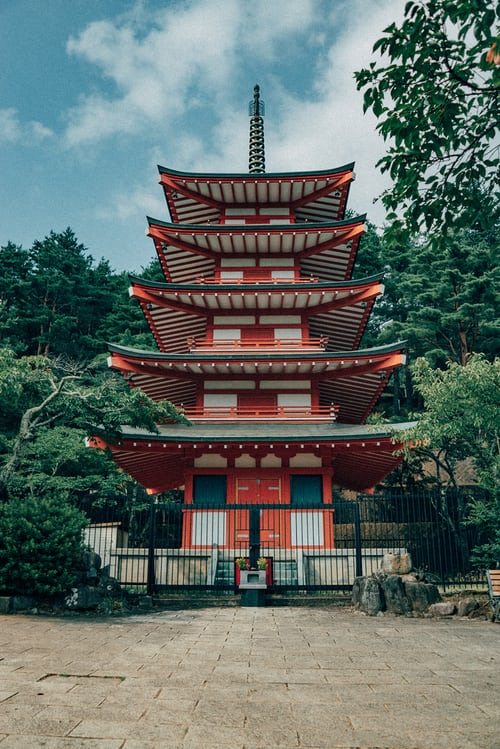Temple: (102, 95, 434, 555)
